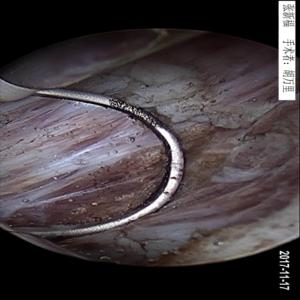film: (9, 91, 296, 249)
